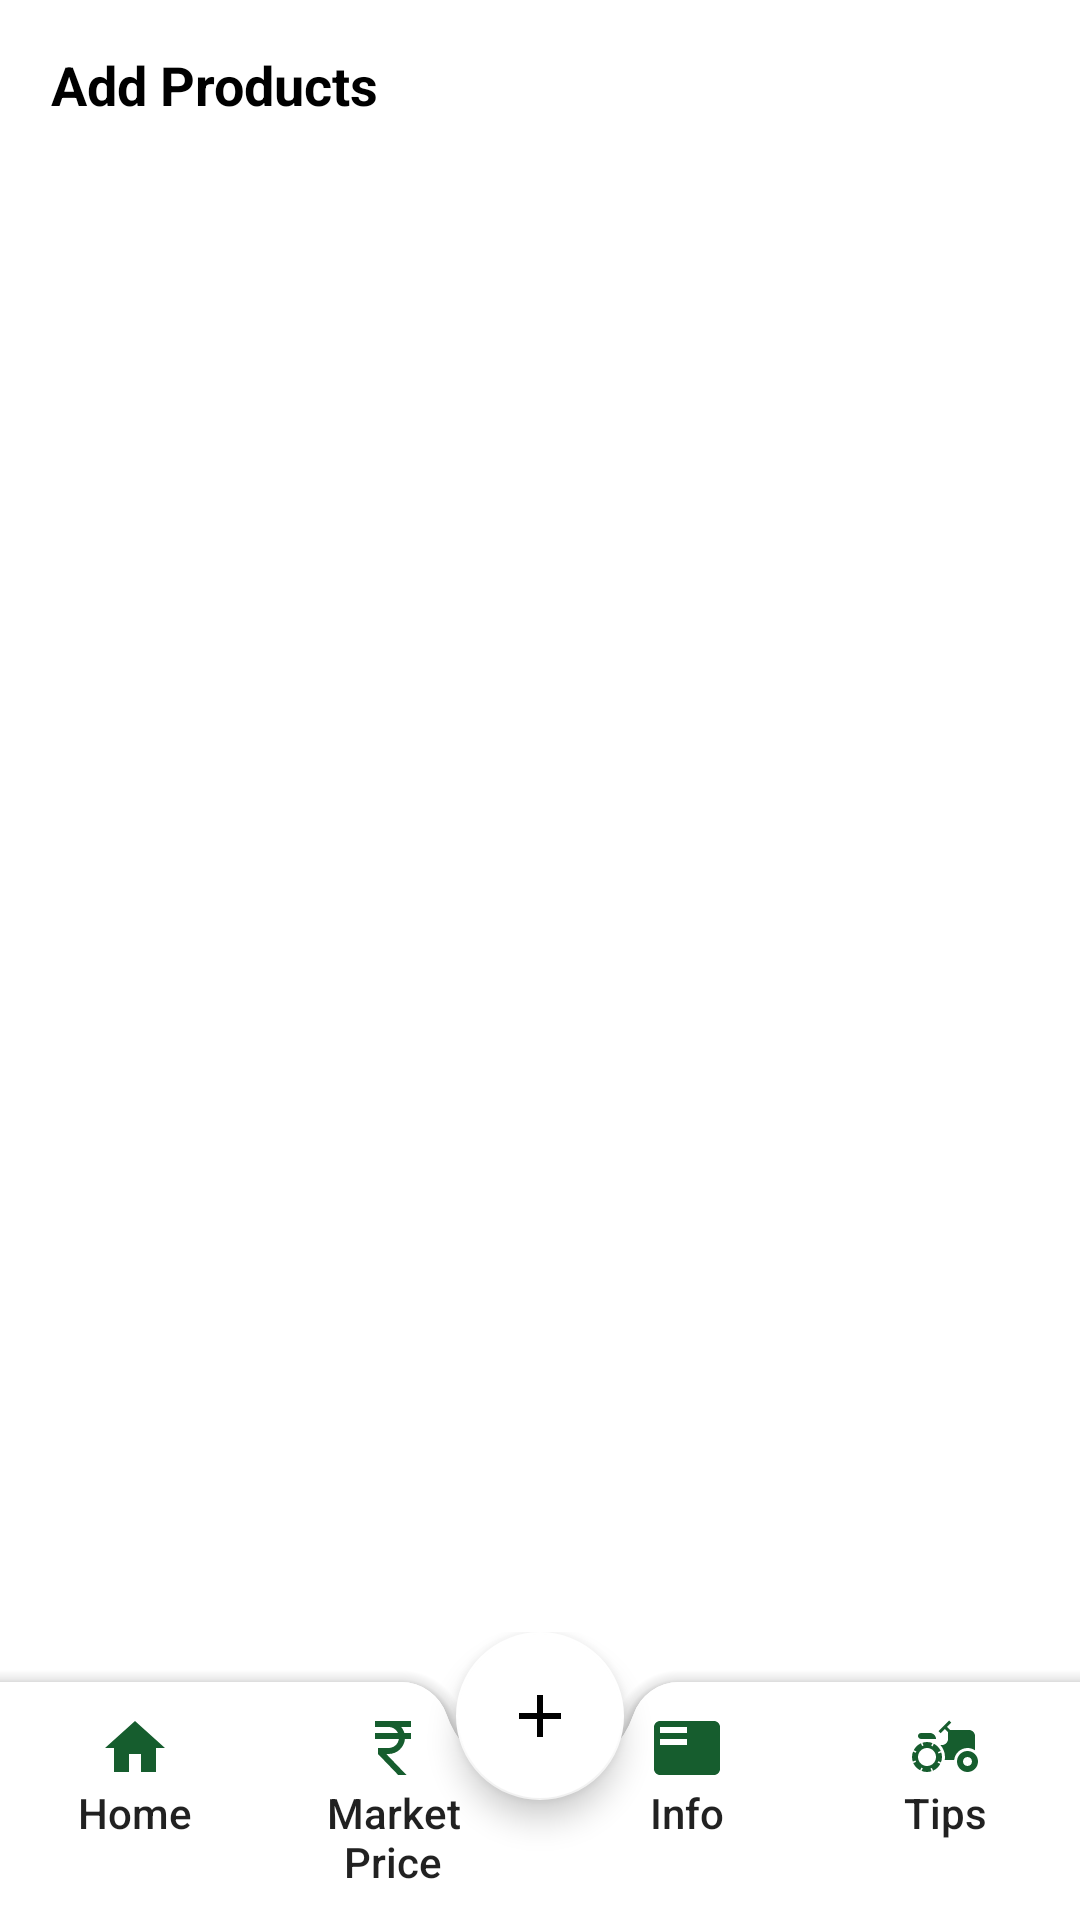

Named icons in this screenshot (1080x1920) and their bounding boxes, (x1, y1, x2, y2):
add: (456, 1695, 624, 1800)
